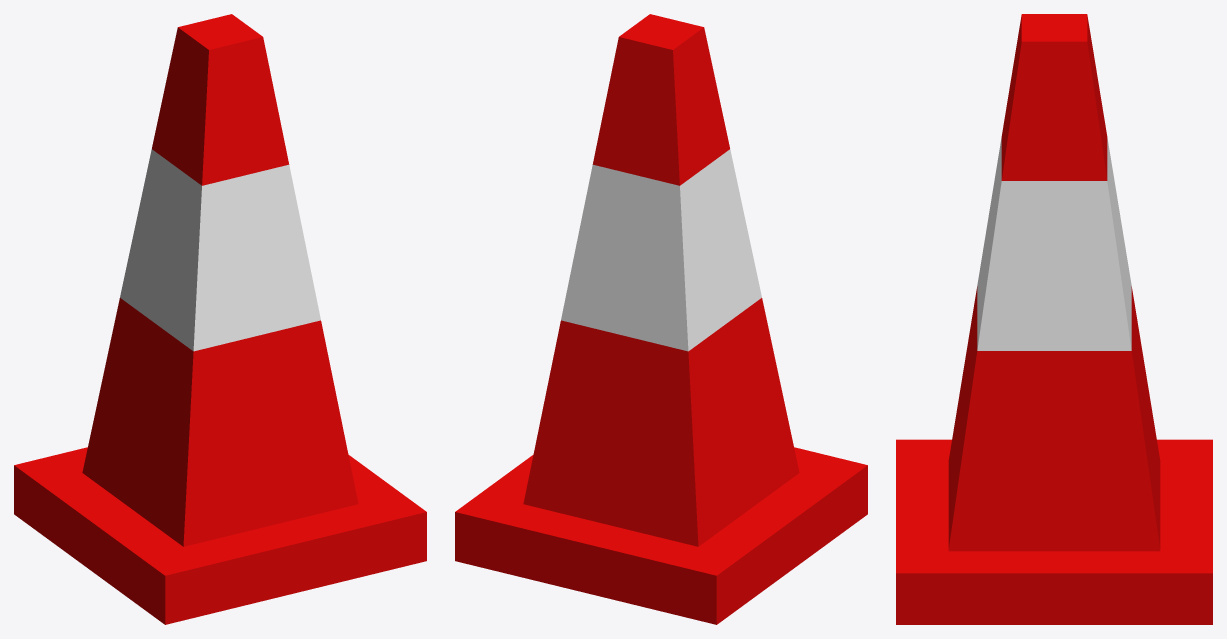
The model's file is Traffic cone.FBX.
The picture shows the model from 3 angles, left to right: view 1: azimuth 30°, elevation 25°; view 2: azimuth 150°, elevation 25°; view 3: azimuth 270°, elevation 25°; orthographic projection. The views are drawn at different scales.
Visible parts, largest first — view 1: traffic cone; view 2: traffic cone; view 3: traffic cone.
Part boxes in pixels (x1,y1,x2,y2): traffic cone: (14, 14, 426, 624); traffic cone: (455, 14, 867, 624); traffic cone: (896, 14, 1212, 624).
Bounding box in the file's own units: 11.81 × 21.81 × 11.81.
